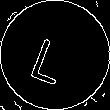L_N: (32, 26, 78, 84)
